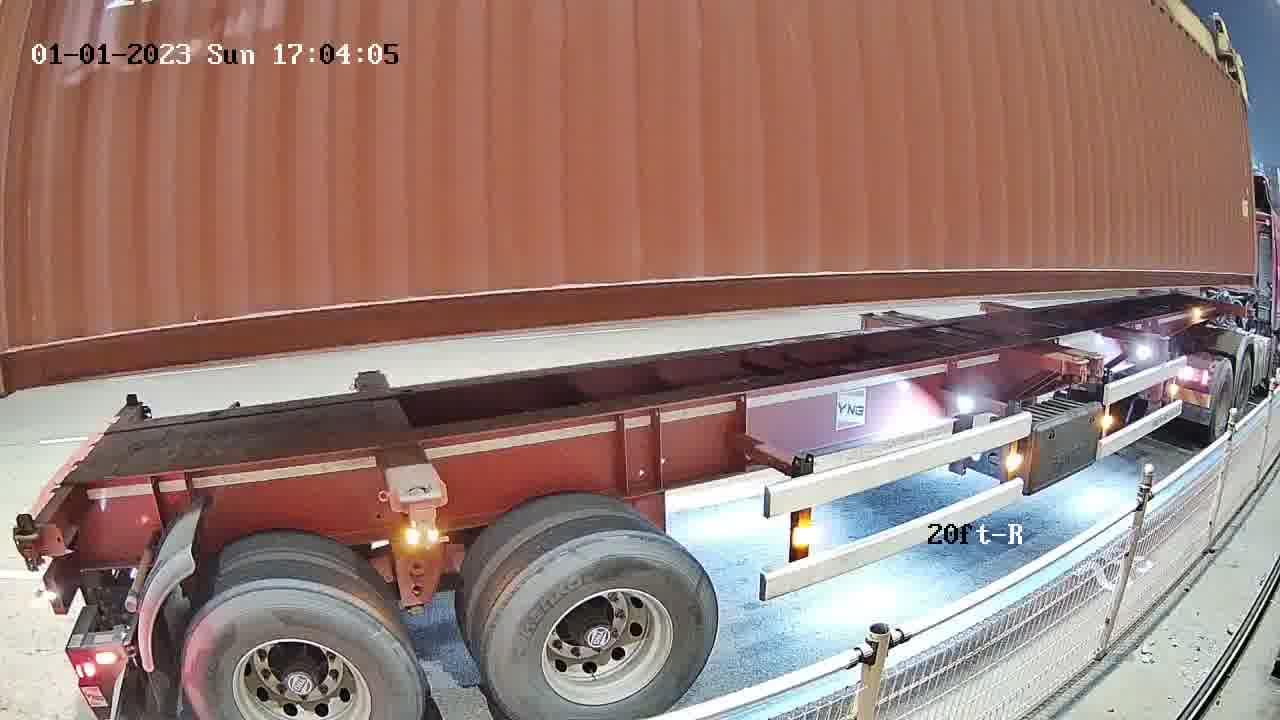Cone: (9, 512, 48, 575)
Tire: (489, 534, 717, 714), (183, 588, 423, 718)
